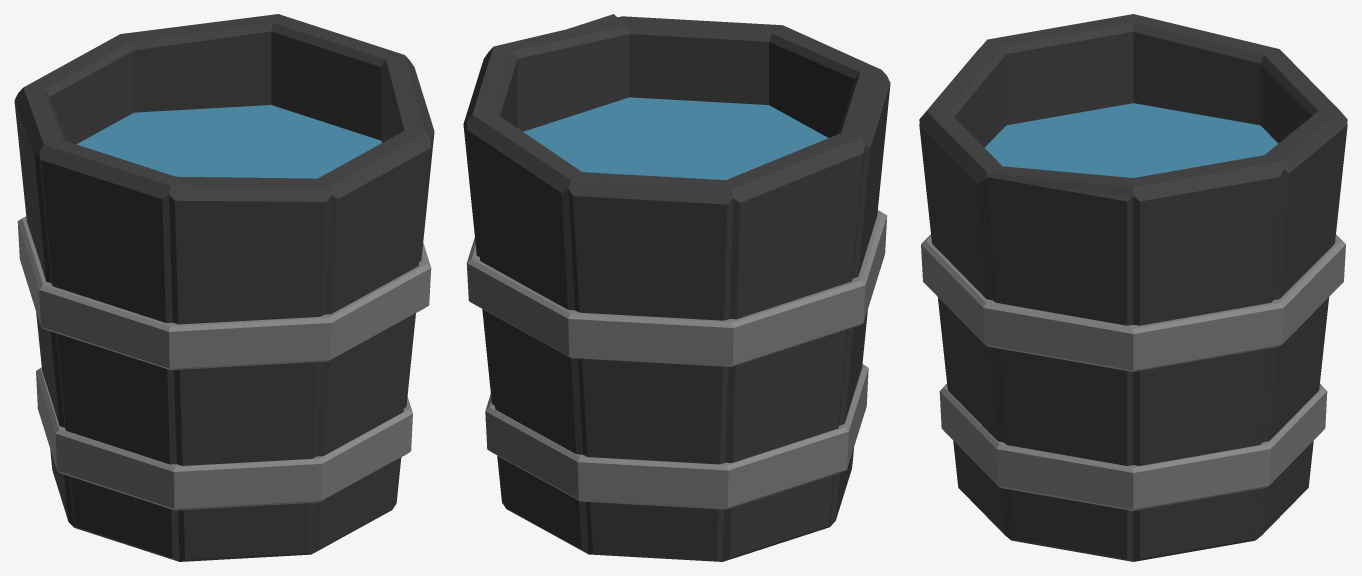
Rendered from bucket_b001.glb.
3 renders of one model, left to right at view 1: azimuth 30°, elevation 25°; view 2: azimuth 150°, elevation 25°; view 3: azimuth 270°, elevation 25°, orthographic. The views are drawn at different scales.
Parts seen in each view (by area): view 1: bucket_b001; view 2: bucket_b001; view 3: bucket_b001.
Boxes of the visible parts, x1,y1,x2,y2 form: bucket_b001: (14, 14, 434, 561); bucket_b001: (463, 14, 890, 561); bucket_b001: (919, 14, 1347, 561).
Size of the model in its own units: 0.2707 by 0.2714 by 0.2707.
1 material, 1 textured.
